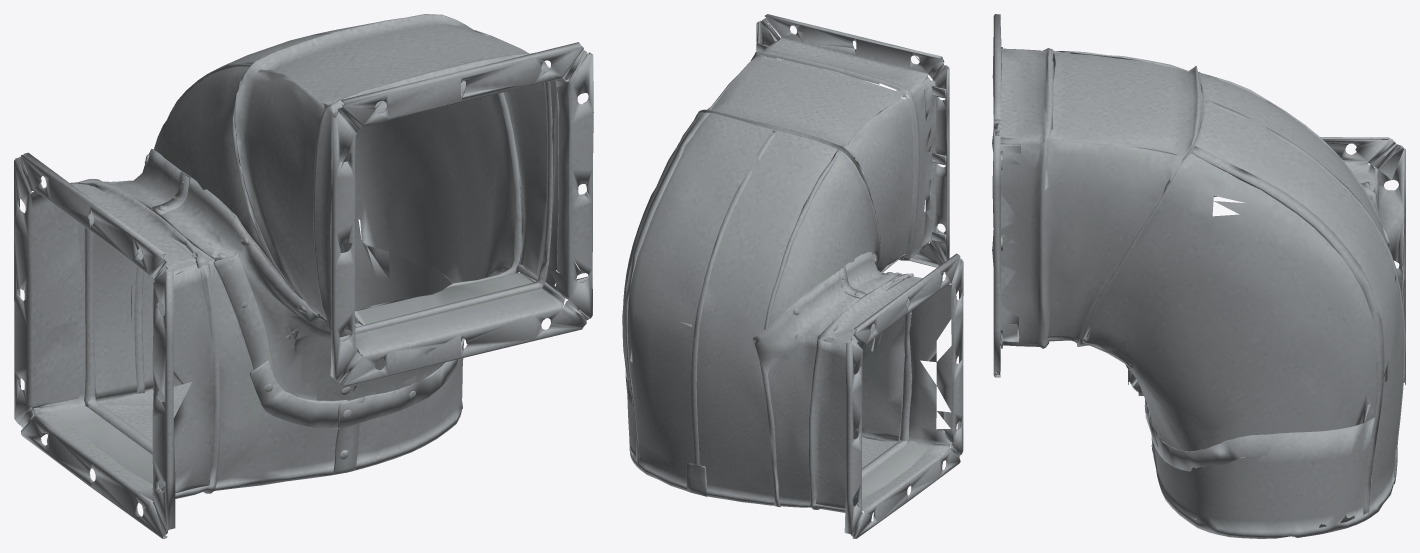
Rendered from vent_duct_corner_90.glb.
The picture shows the model from 3 angles, left to right: view 1: azimuth 30°, elevation 25°; view 2: azimuth 150°, elevation 25°; view 3: azimuth 270°, elevation 25°; orthographic projection. The views are drawn at different scales.
Bounding box in the file's own units: 0.754 × 0.9536 × 0.8403.
1 material, 1 textured.
